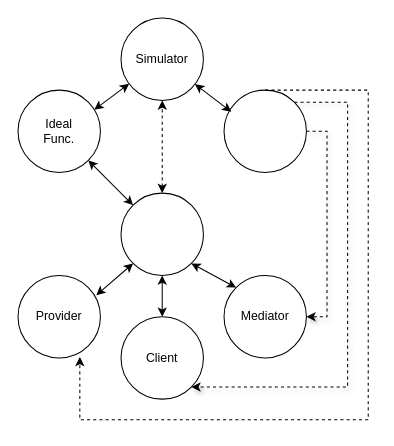
Image size: 394x446. Some labels were removed from this diagram. Each missing label, with the centre of its shape:
"Environment" goes at pixel 264 131.
"Router" goes at pixel 161 234.
